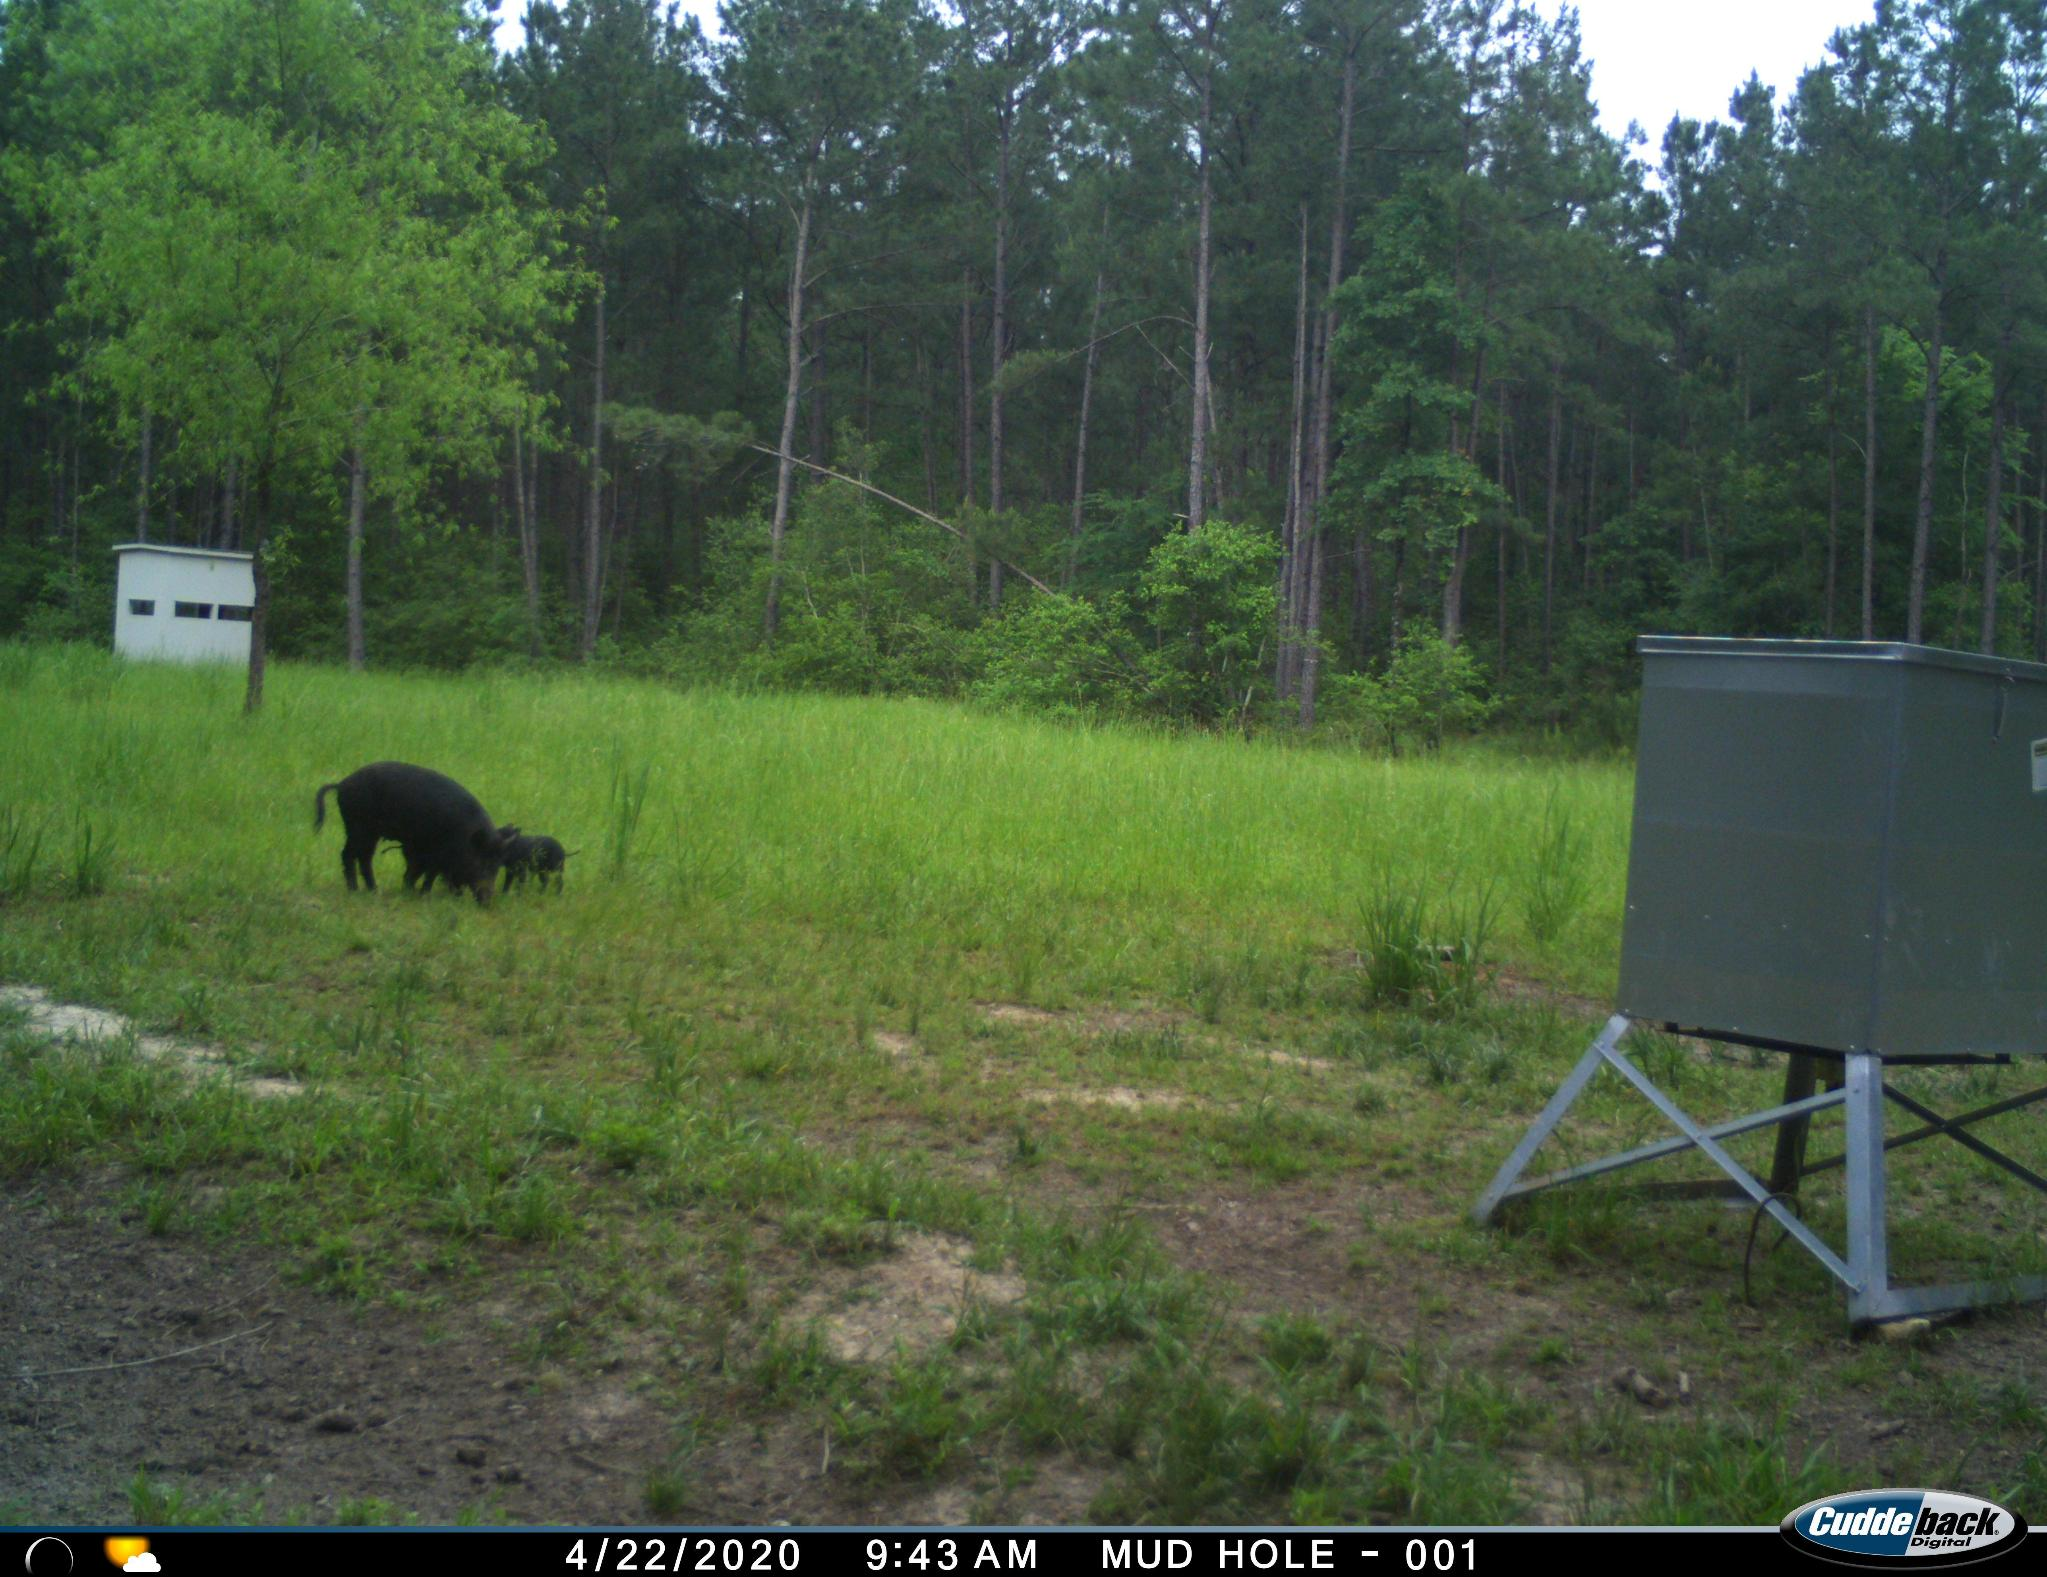Hog: (311, 757, 520, 909), (507, 825, 585, 901)
